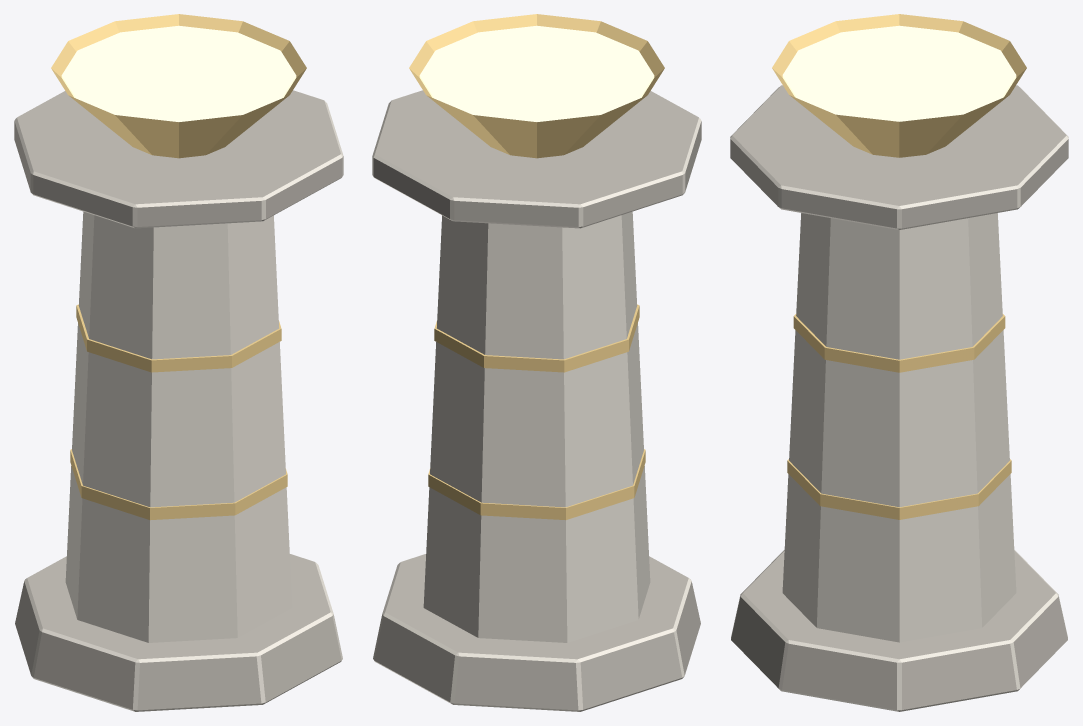
File: Beacon.fbx
3 renders of one model, left to right at view 1: azimuth 30°, elevation 25°; view 2: azimuth 150°, elevation 25°; view 3: azimuth 270°, elevation 25°, orthographic.
Visible parts, largest first — view 1: Beacon; view 2: Beacon; view 3: Beacon.
Boxes of the visible parts, bbox=[...] form: Beacon: bbox=[14, 14, 343, 711]; Beacon: bbox=[372, 14, 701, 711]; Beacon: bbox=[730, 14, 1068, 711].
Bounding box in the file's own units: 6.36 × 11.9 × 6.36.
